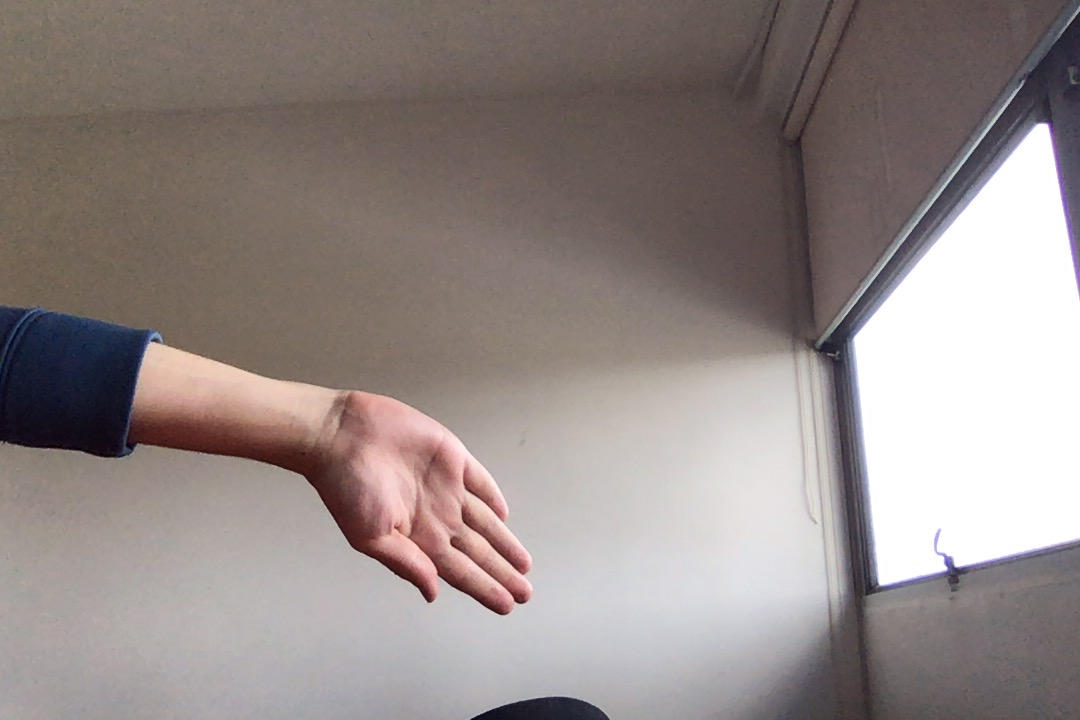palmhand: (317, 380, 536, 620)
